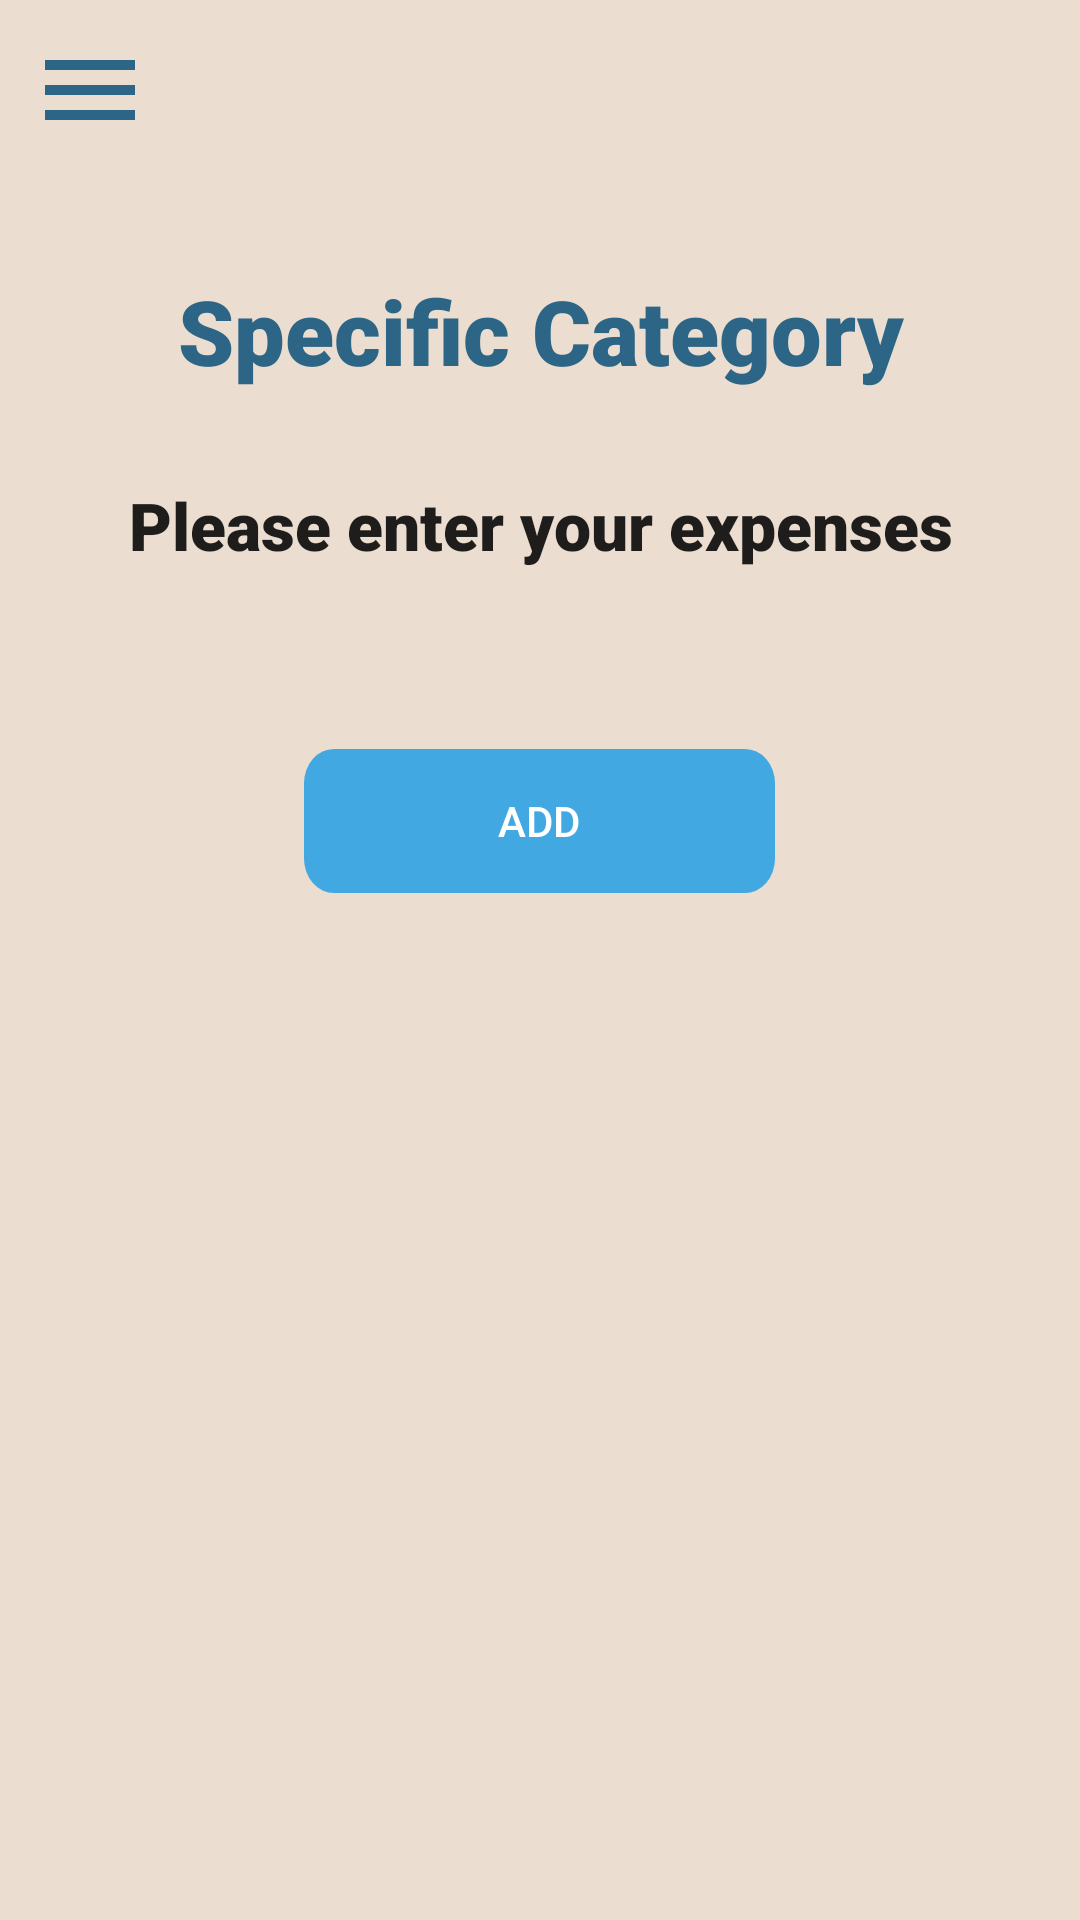

Locate icon controls on the screen. Image size 1080 x 1920, boxes as (x1, y1, x2, y2).
menu: (45, 60, 135, 120)
